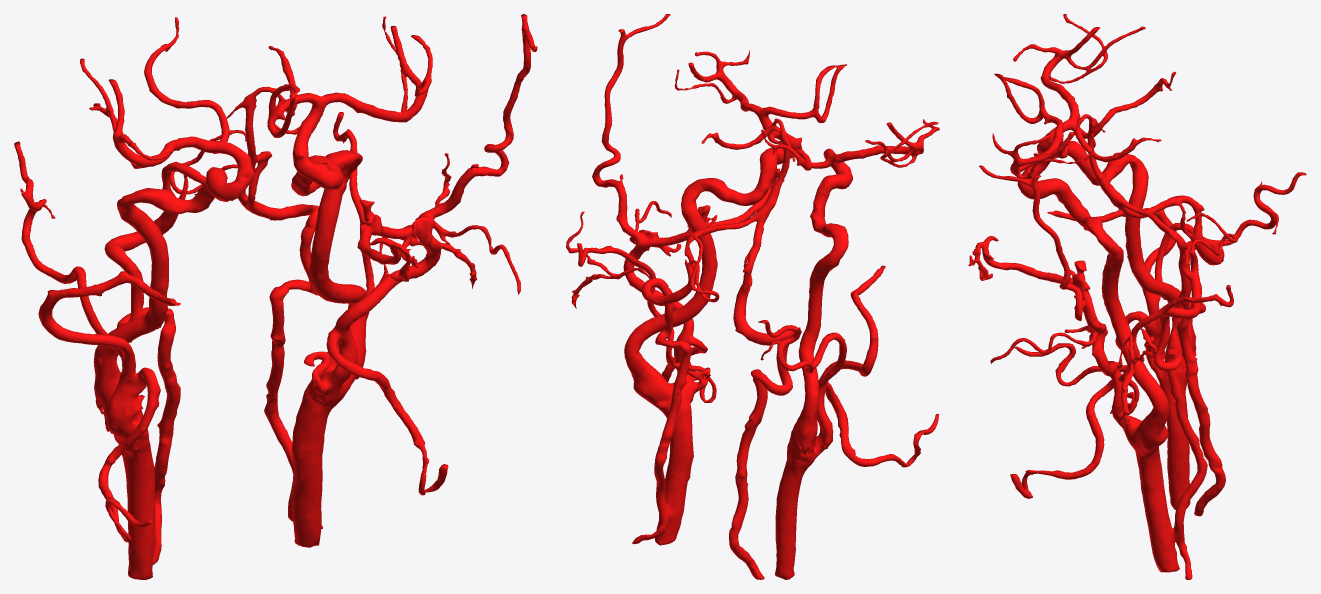
3 renders of one model, left to right at view 1: azimuth 30°, elevation 25°; view 2: azimuth 150°, elevation 25°; view 3: azimuth 270°, elevation 25°, orthographic. The views are drawn at different scales.
Parts seen in each view (by area): view 1: Polygonal_Model_4_Triangles_0; view 2: Polygonal_Model_4_Triangles_0; view 3: Polygonal_Model_4_Triangles_0.
Boxes of the visible parts, left/top/right/bottom form: Polygonal_Model_4_Triangles_0: left=14, top=14, right=537, bottom=579; Polygonal_Model_4_Triangles_0: left=566, top=14, right=939, bottom=579; Polygonal_Model_4_Triangles_0: left=968, top=14, right=1306, bottom=579.
Size of the model in its own units: 5.26 by 6.5 by 4.46.
